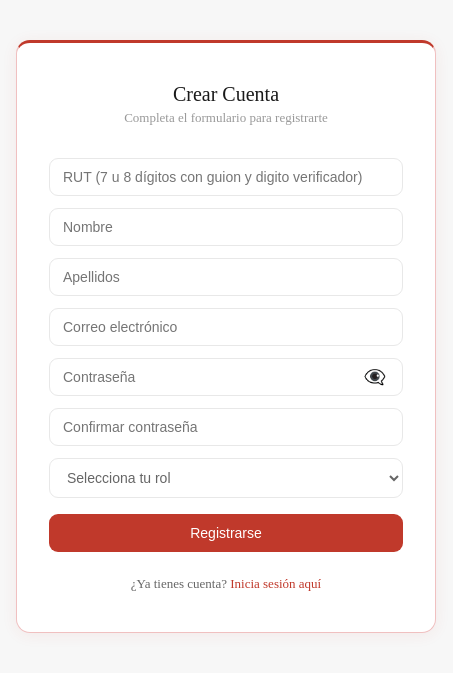
Test: Register › Validaciones de formulario › valida longitud mínima de contraseña
This screenshot has width=453, height=673.
Type "21812636-7" into the field with placeholder "RUT (7 u 8 dígitos con guion y digito verificador)" at (226, 176), box [49, 158, 403, 196]
Type "Tomas" into the field with placeholder "Nombre" at (226, 226), box [49, 208, 403, 246]
Type "Valdes" into the field with placeholder "Apellidos" at (226, 276), box [49, 258, 403, 296]
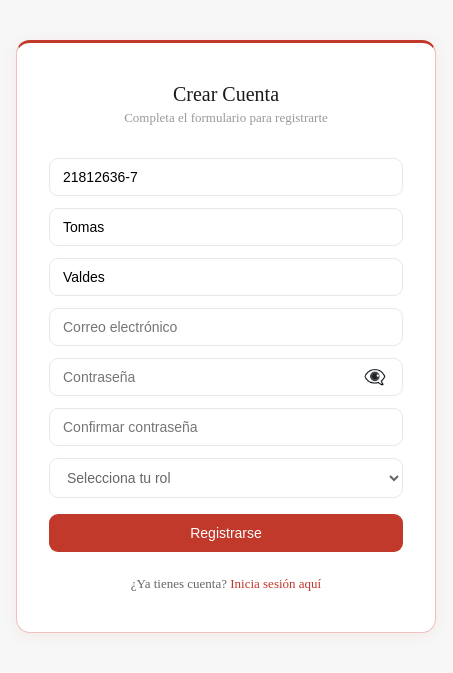
Type "tomas@test.com" into the field with placeholder "Correo electrónico" at (226, 326), box [49, 308, 403, 346]
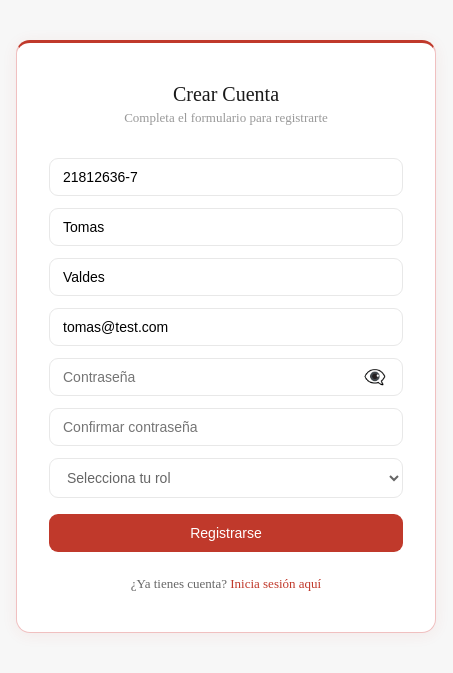
Type "Corta1!" into the password field with placeholder "Contraseña" at (226, 376), box [49, 358, 403, 396]
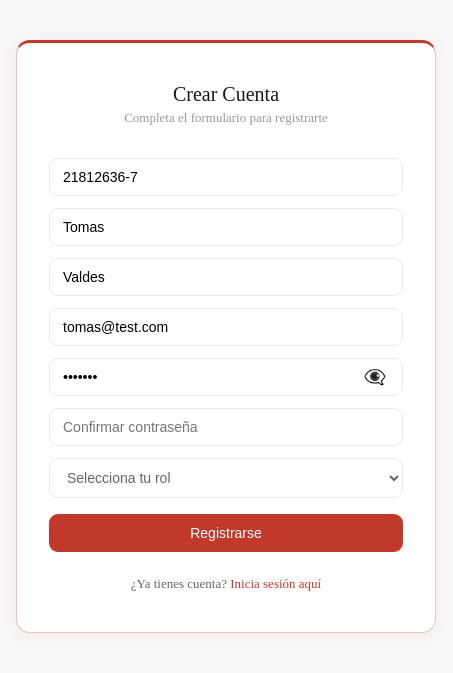
Type "Corta1!" into the password field with placeholder "Confirmar contraseña" at (226, 426), box [49, 408, 403, 446]
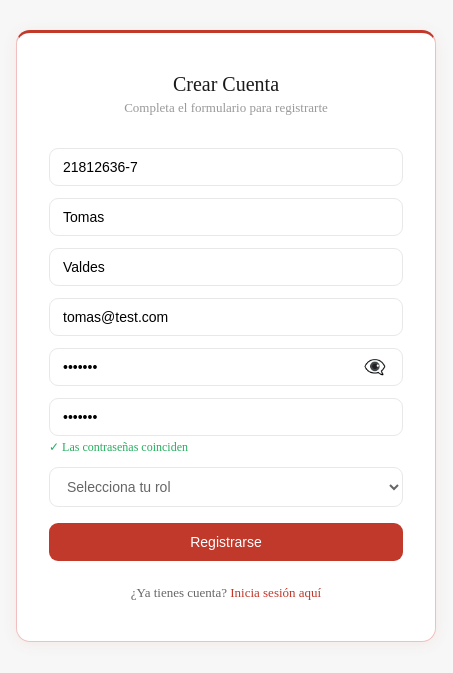
Select "Solicitante" in the dropdown at (226, 487), box [49, 467, 403, 507]
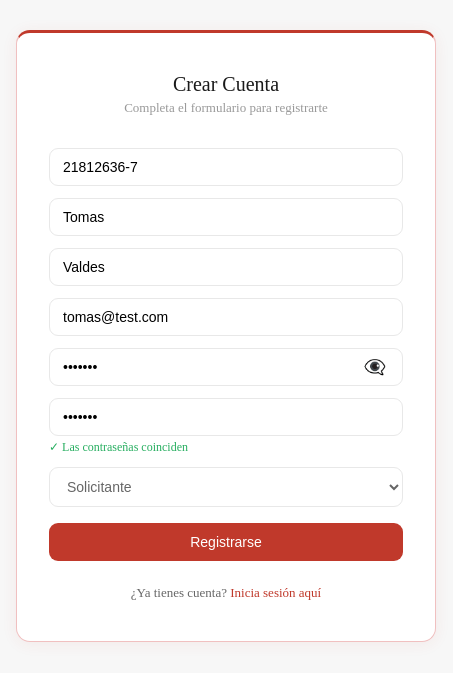
Submit the form "👁️‍🗨️ ✓ Las contraseñas coinciden Registrarse", box [49, 148, 403, 561]
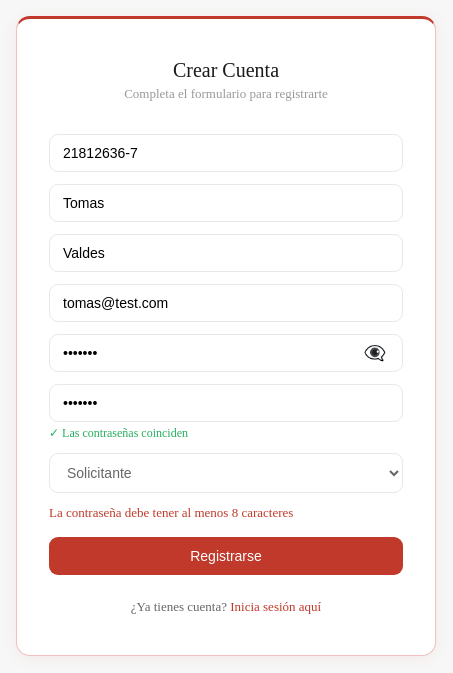
expect the message reads "La contraseña debe tener al menos 8 caracteres": met, box [49, 505, 293, 520]
